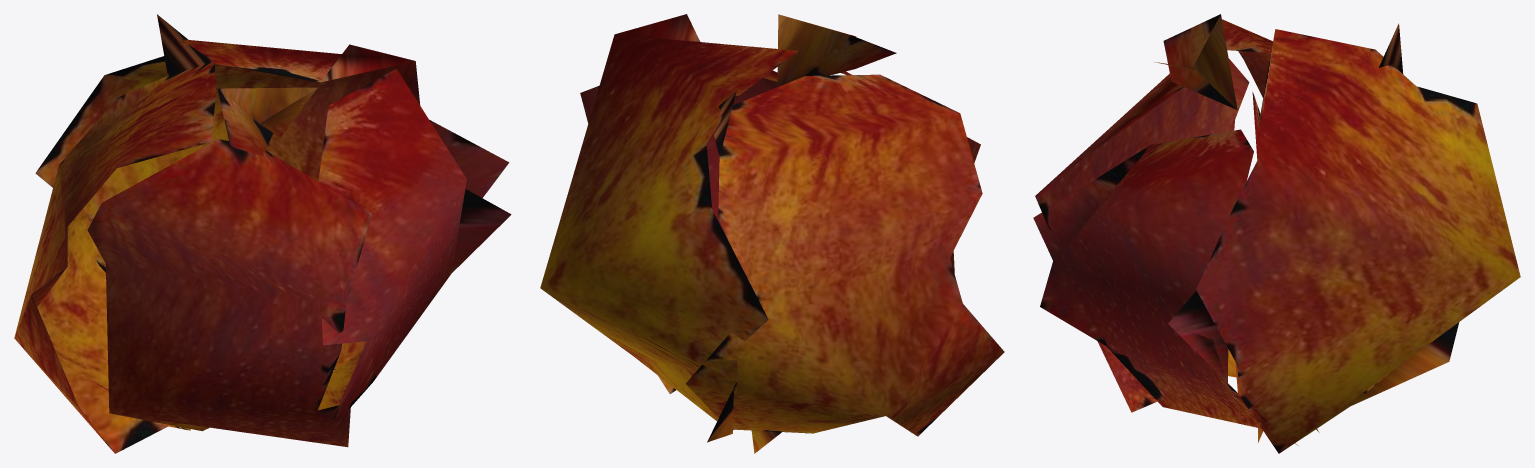
File: ph_food_apple_01.glb
The picture shows the model from 3 angles, left to right: view 1: azimuth 30°, elevation 25°; view 2: azimuth 150°, elevation 25°; view 3: azimuth 270°, elevation 25°; orthographic projection. The views are drawn at different scales.
Visible parts, largest first — view 1: food_apple_01; view 2: food_apple_01; view 3: food_apple_01.
Boxes of the visible parts, <box> form: food_apple_01: <box>14,14,511,453</box>; food_apple_01: <box>540,14,1004,453</box>; food_apple_01: <box>1033,14,1520,453</box>.
Bounding box in the file's own units: 0.1029 × 0.0902 × 0.0997.
1 material, 1 textured.
